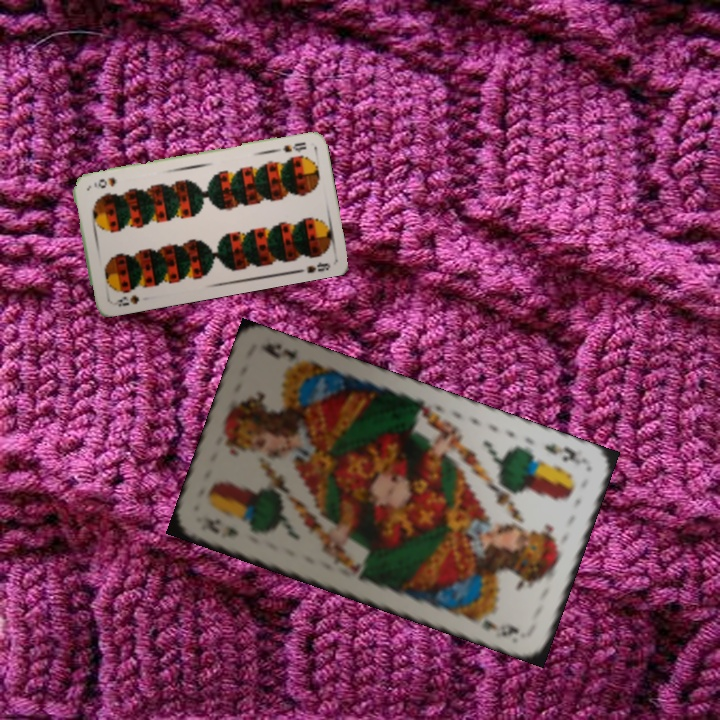EK: (200, 515, 241, 539), (540, 439, 579, 464)
S8: (271, 138, 309, 155), (109, 291, 142, 310)
